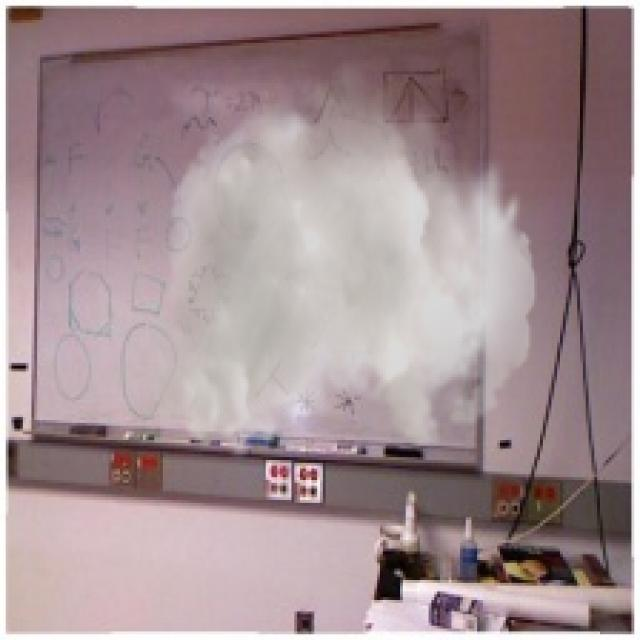smoke: (152, 51, 537, 460)
